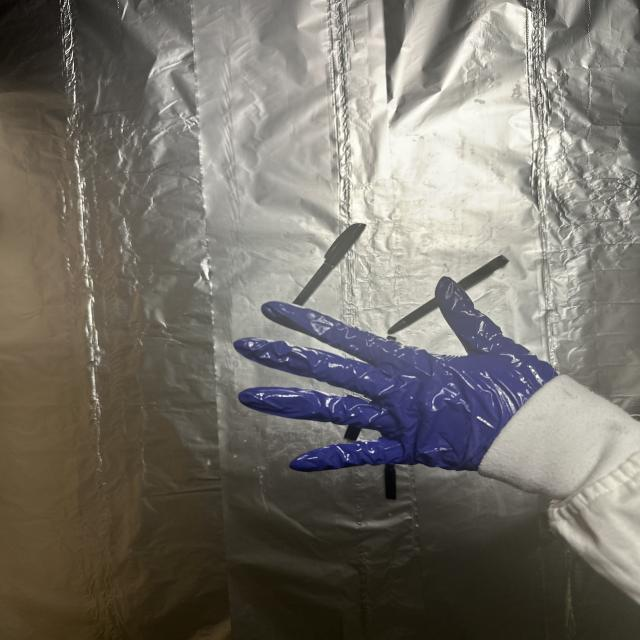gloves_contaminated: (235, 277, 557, 471)
